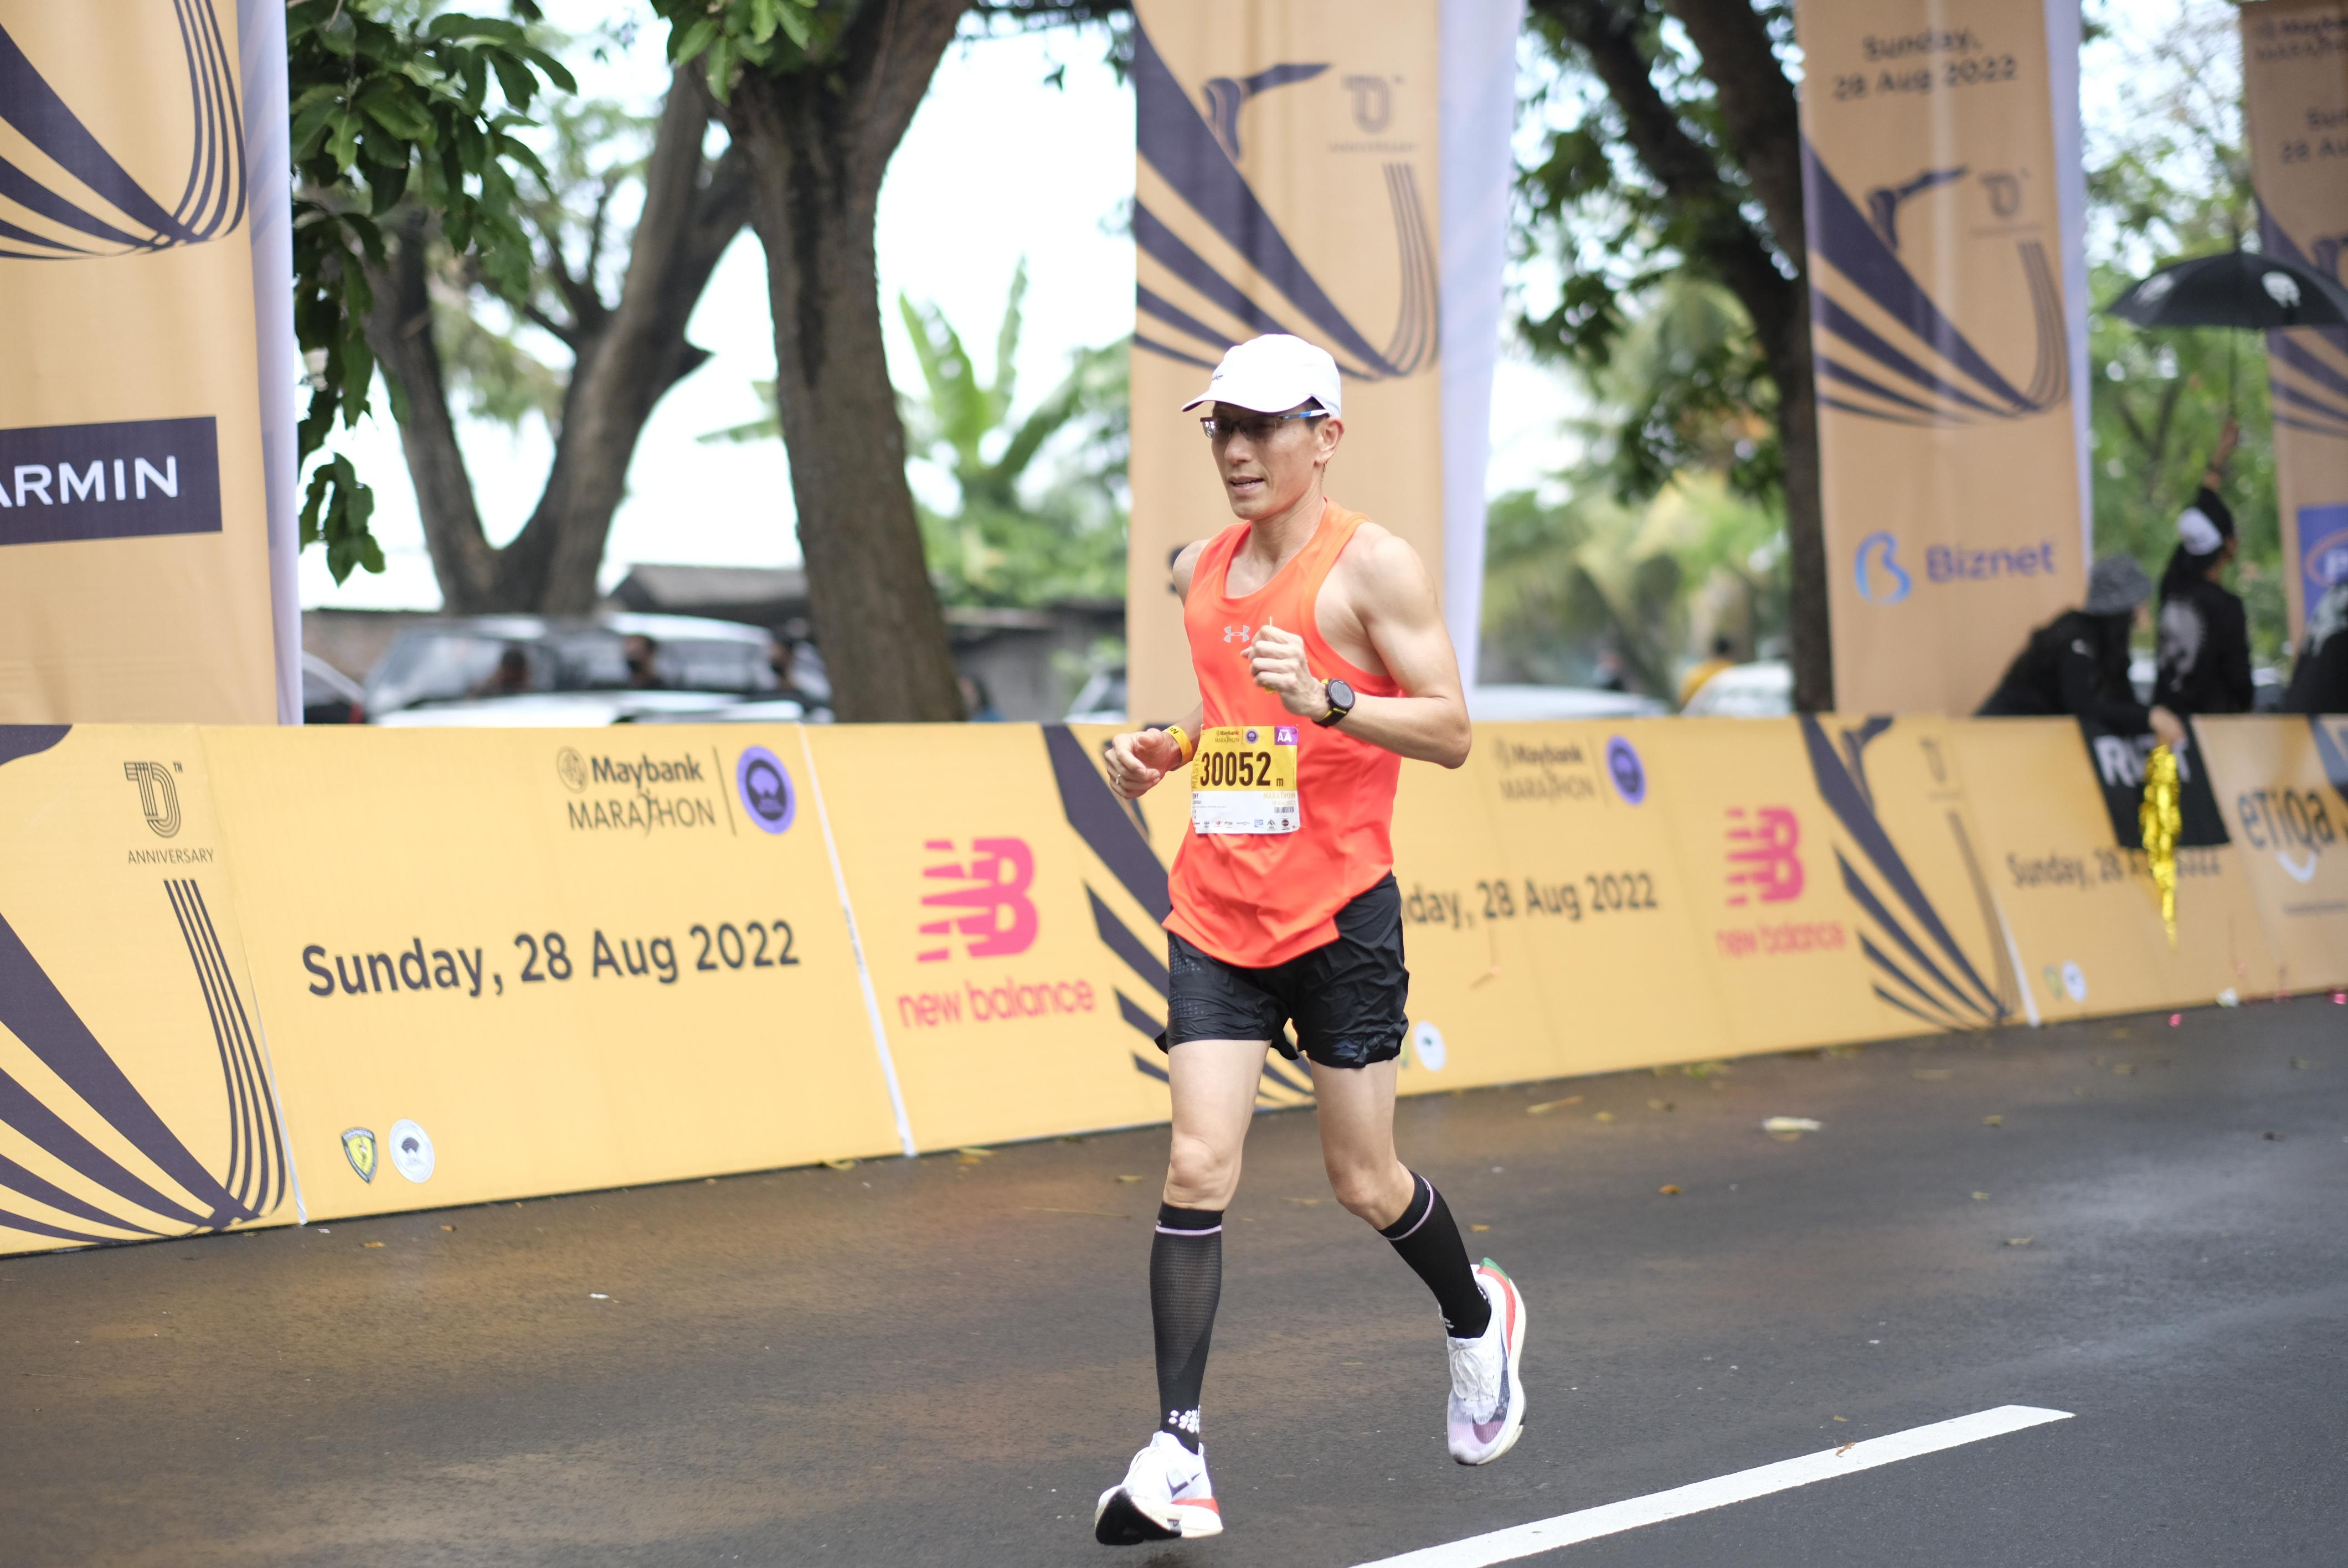bib: (1195, 731, 1300, 836)
